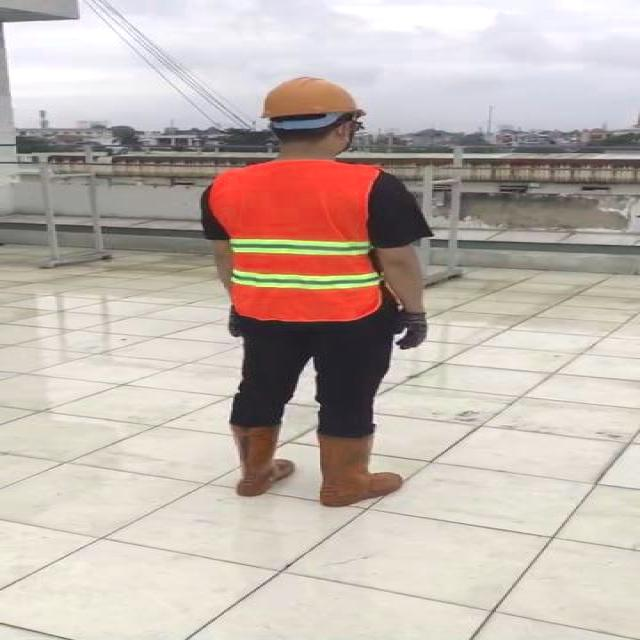boots: (319, 432, 406, 509), (222, 419, 297, 497)
hand_glove: (389, 312, 434, 352)
head_helmet: (260, 73, 366, 121)
person: (190, 73, 438, 513)
vest: (210, 160, 384, 318)
